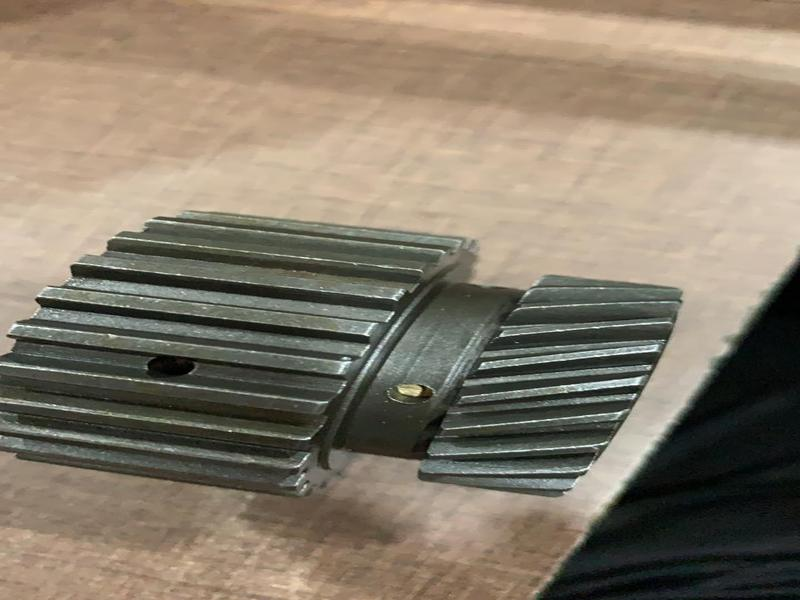engine gear alfa: (23, 184, 687, 528)
